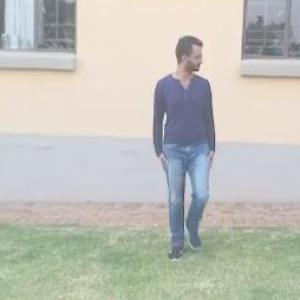follow: (154, 31, 222, 273)
